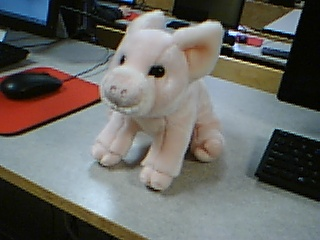piggy: (91, 7, 227, 191)
